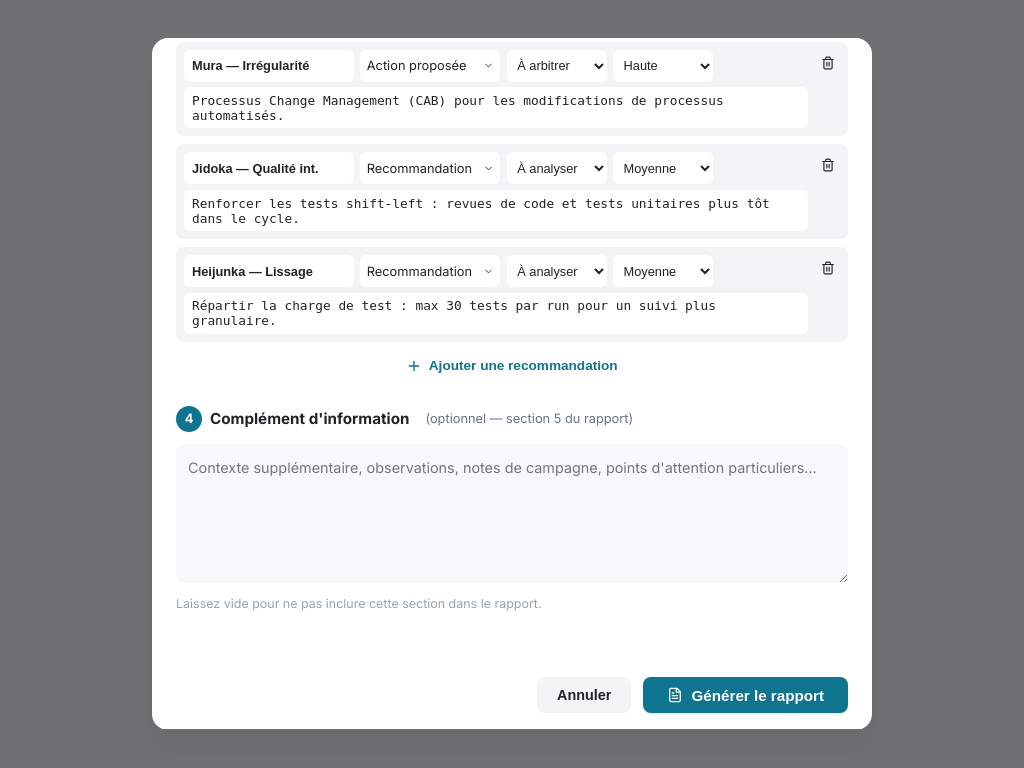
Test: ReportGeneratorModal › shows error when no run ids are available
(page scrolled)
Click the button "Générer le rapport" at (746, 695), box [644,677,848,714]
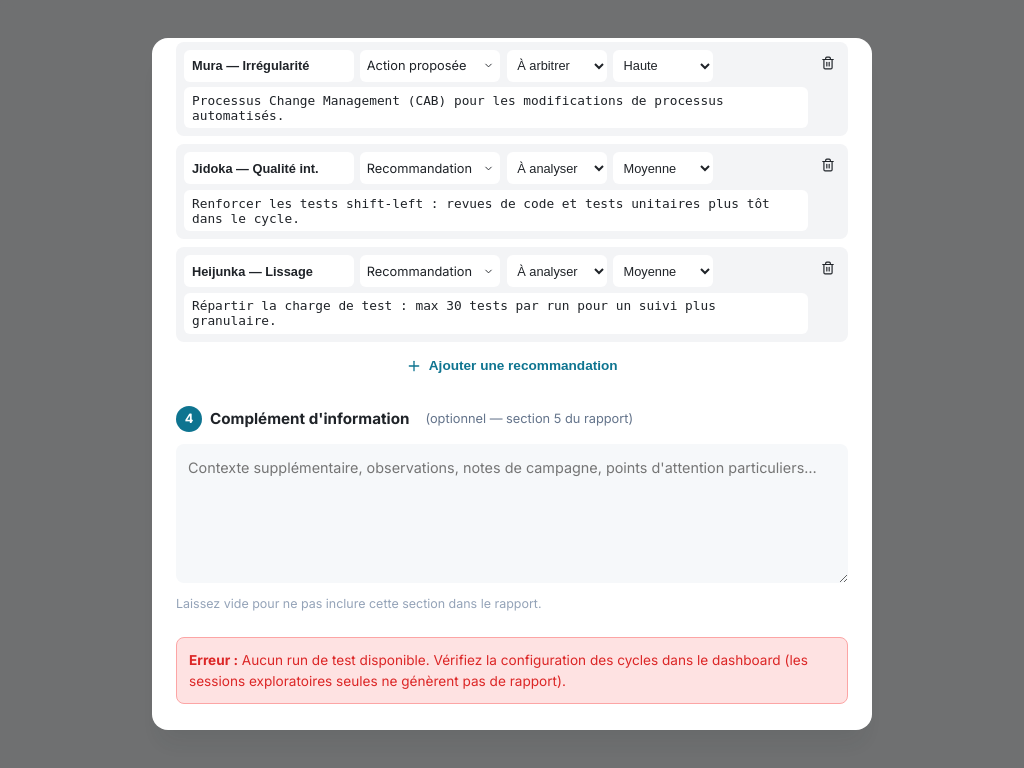
Result: the text "Aucun run de test disponible" is shown at [189,652,808,689]
